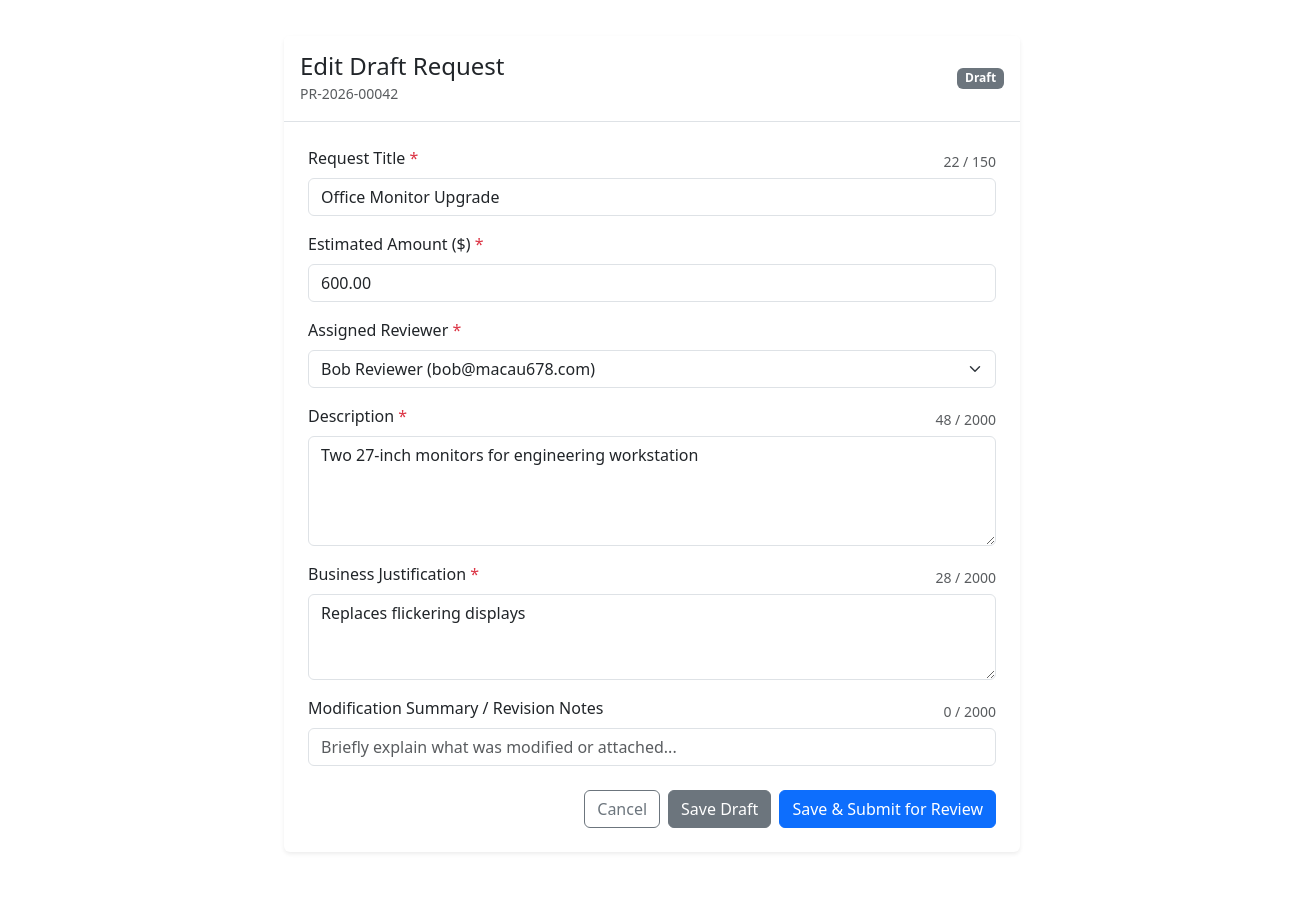
Frontend component tests: Authentication and Authorization › EditRequest save and submit behavior (Draft, Pending Review, Returned) › prevents duplicate submissions on repeated clicks while saving
Later steps or results of the test are not shown.
Click the button "Save & Submit for Review": x=888, y=809 [779,790,996,828]
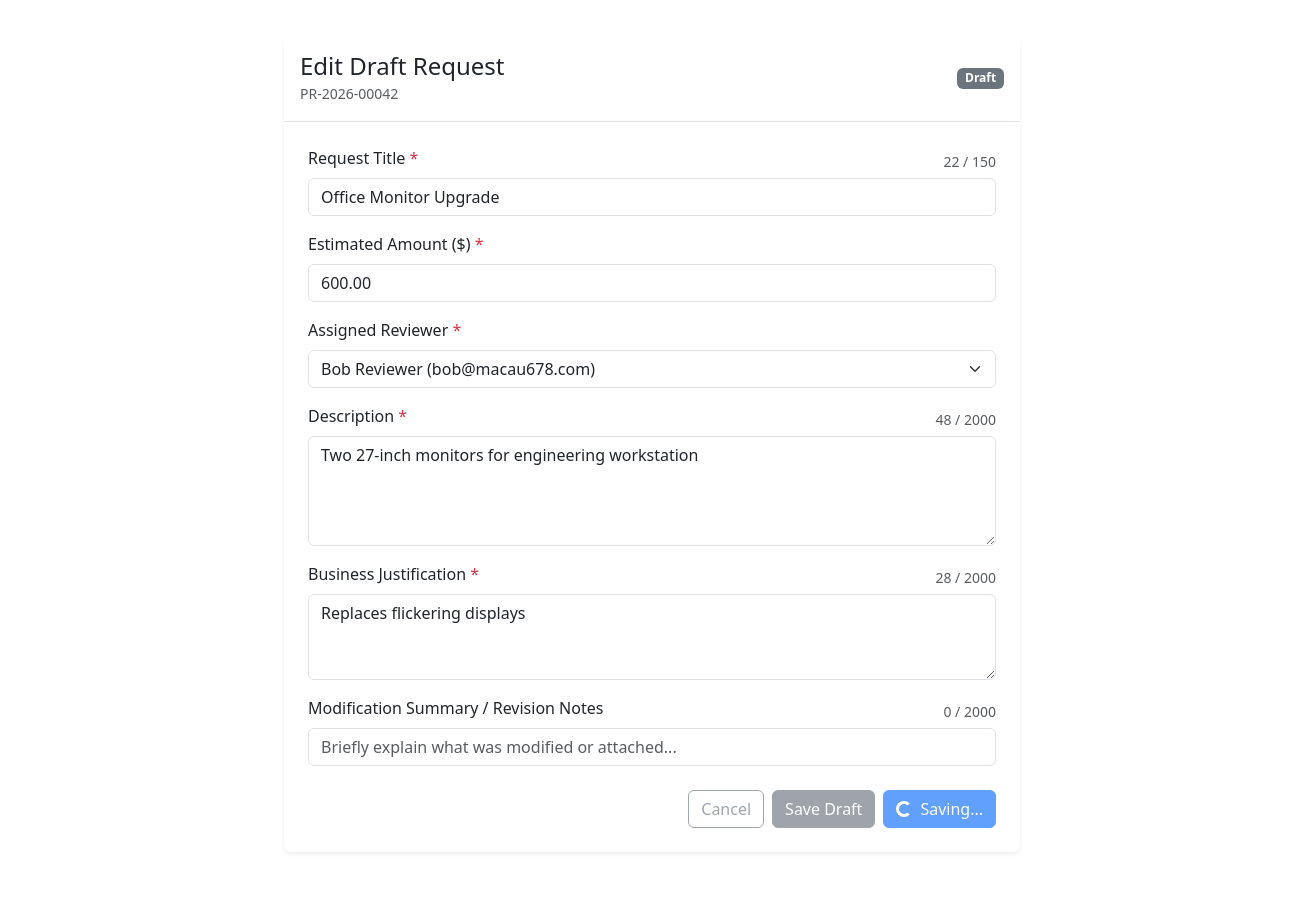
Click the button named "Save & Submit for Review": x=940, y=809 [883,790,996,828]
Click the button named "Save & Submit for Review": x=940, y=809 [883,790,996,828]
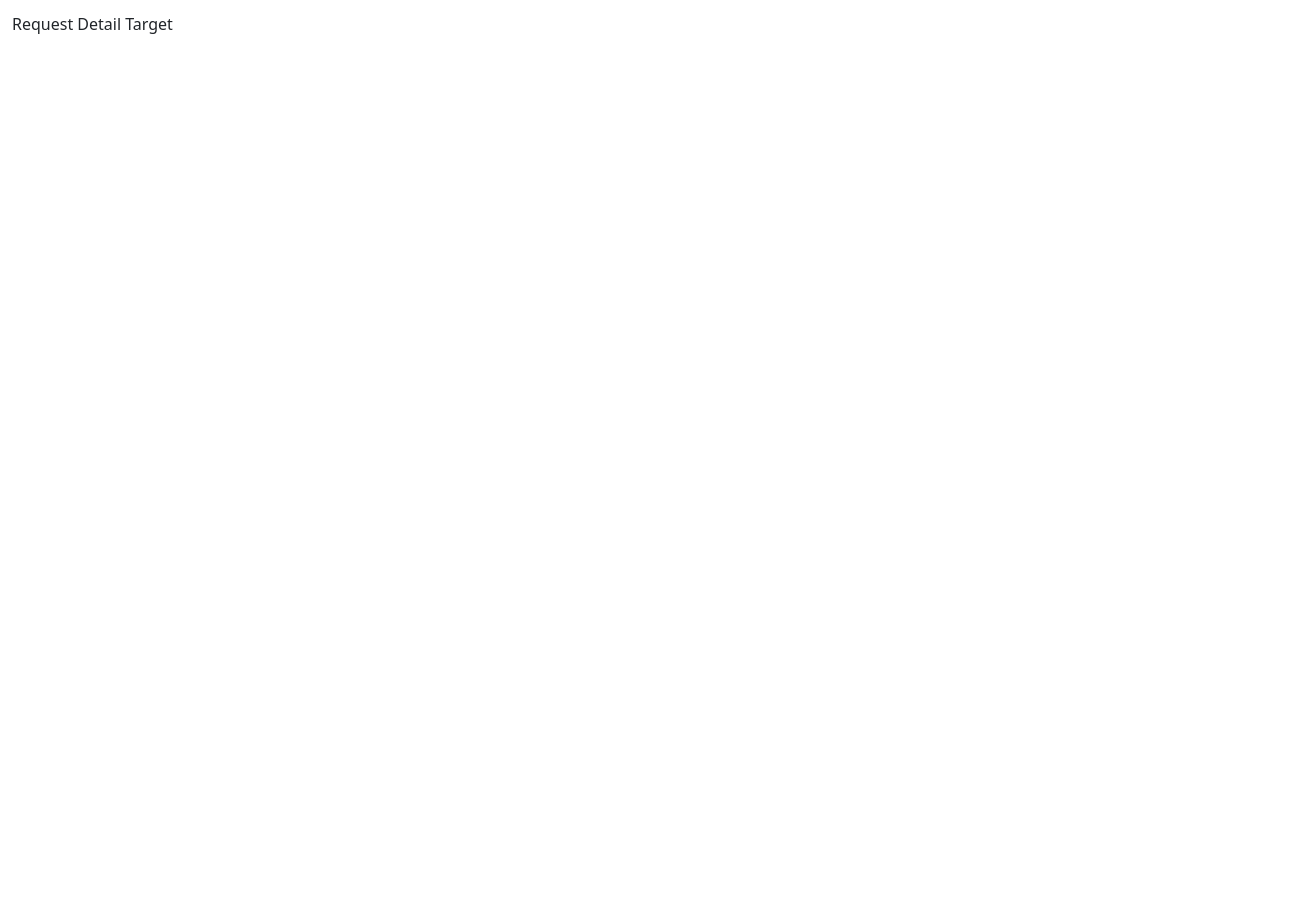
Check: the text "Request Detail Target" is shown, box [12,13,173,35]
